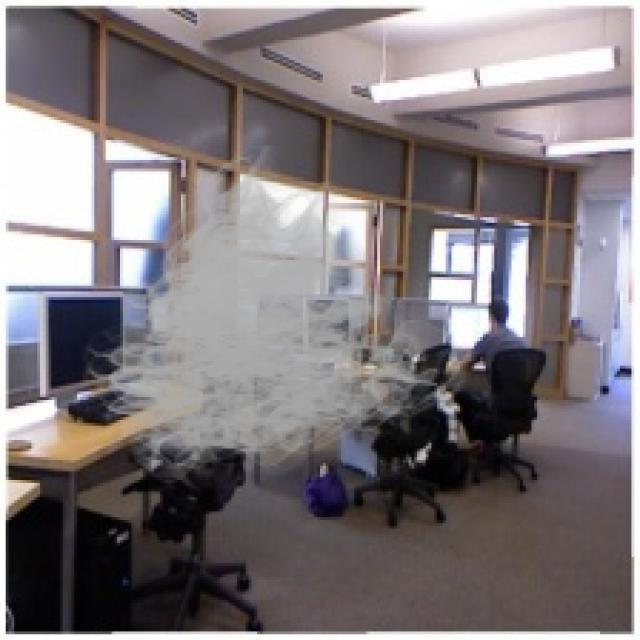Smoke: (72, 146, 474, 492)
